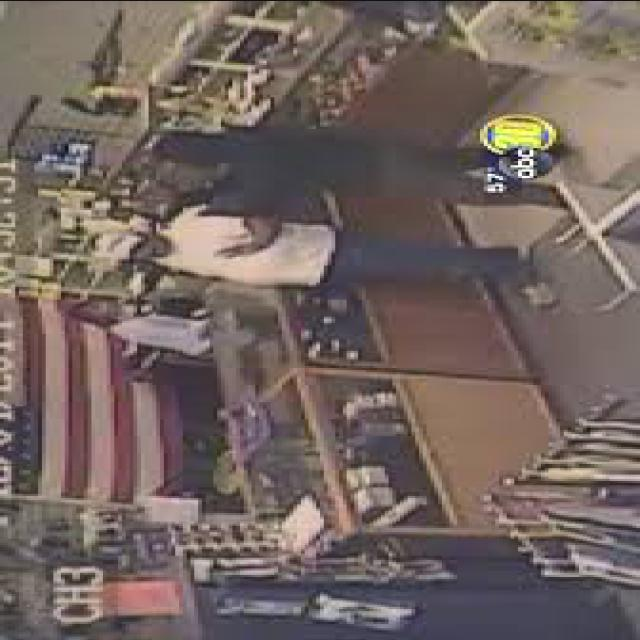handgun: (152, 181, 218, 226)
